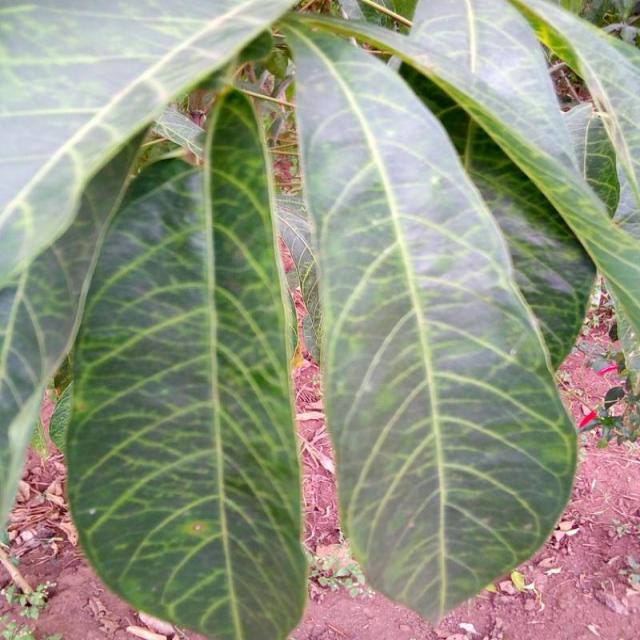cassava leaf: (1, 1, 638, 637), (280, 10, 580, 629), (63, 83, 310, 638), (389, 0, 638, 373)
